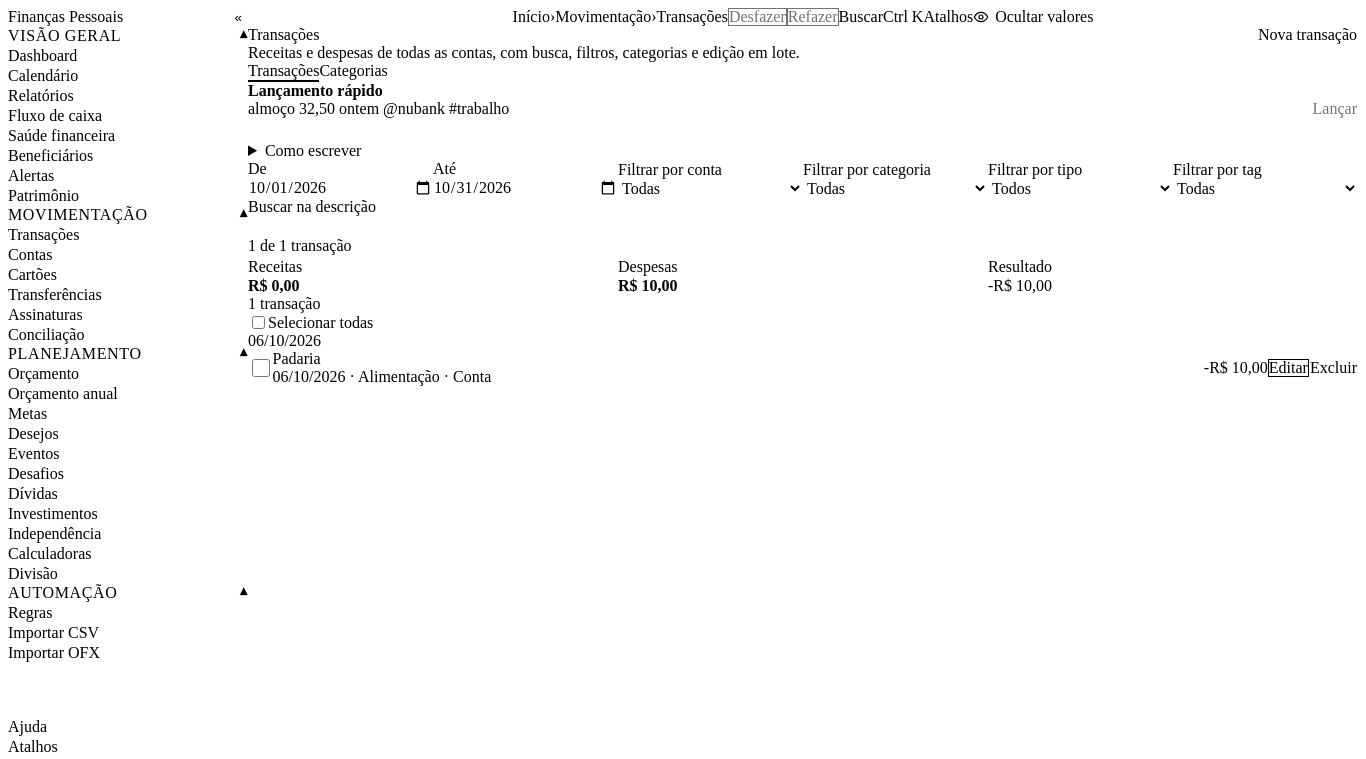
it: redesenho de Transações: cabeçalho, filtros e abas › critério 1: descrição e botão Nova transação só na aba Transações
The image size is (1366, 759).
Check: the button "Nova transação" is shown, box top-left (1257, 26), bottom-right (1358, 44)
Click the tab "Categorias": (354, 72) top-left (319, 62), bottom-right (388, 82)
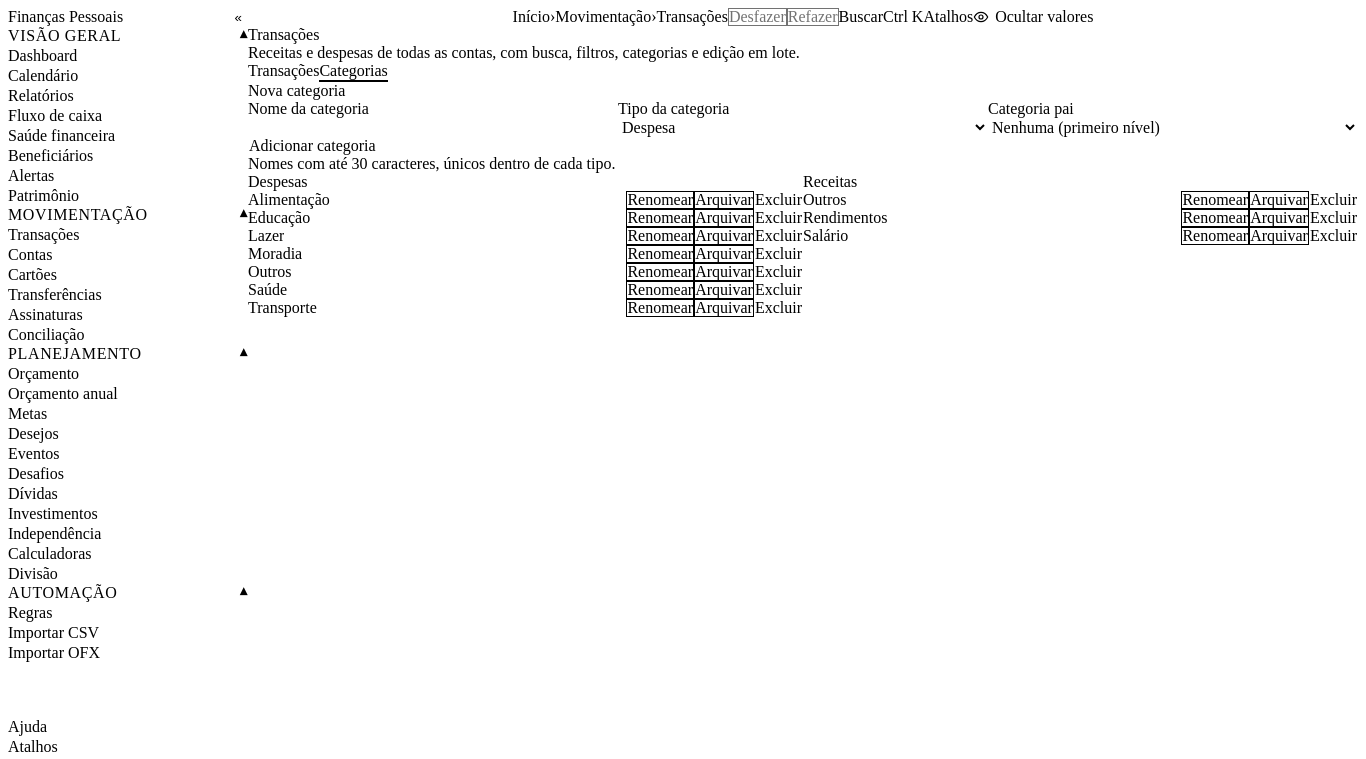
Check: the button "Nova transação" is gone
